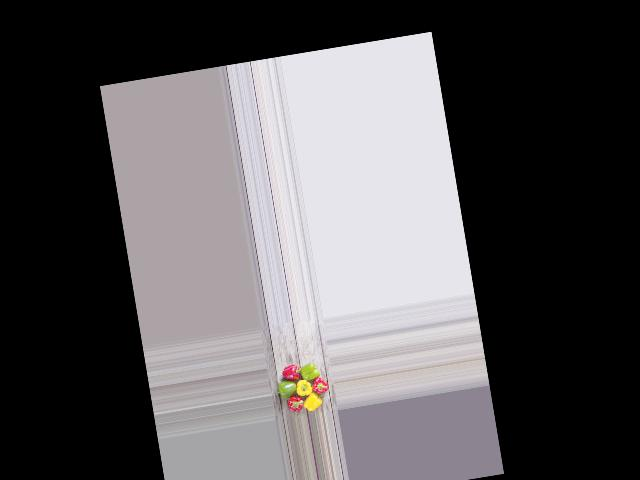bell_pepper: (286, 394, 308, 416)
